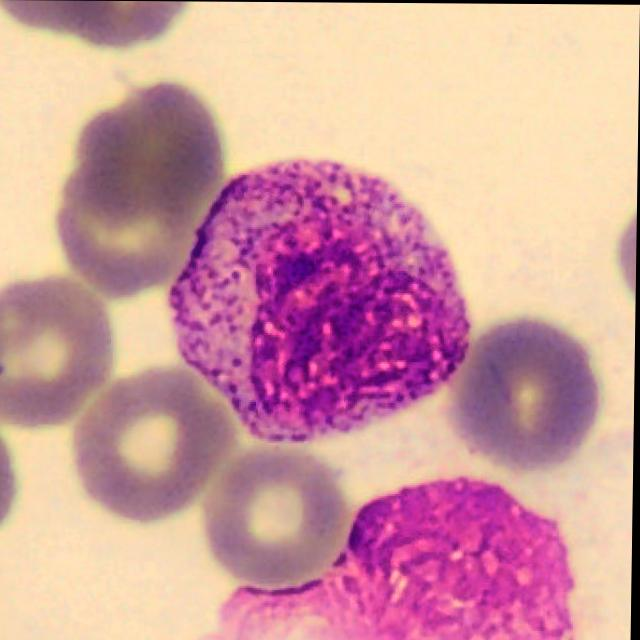Promielocito: (169, 158, 471, 445)
